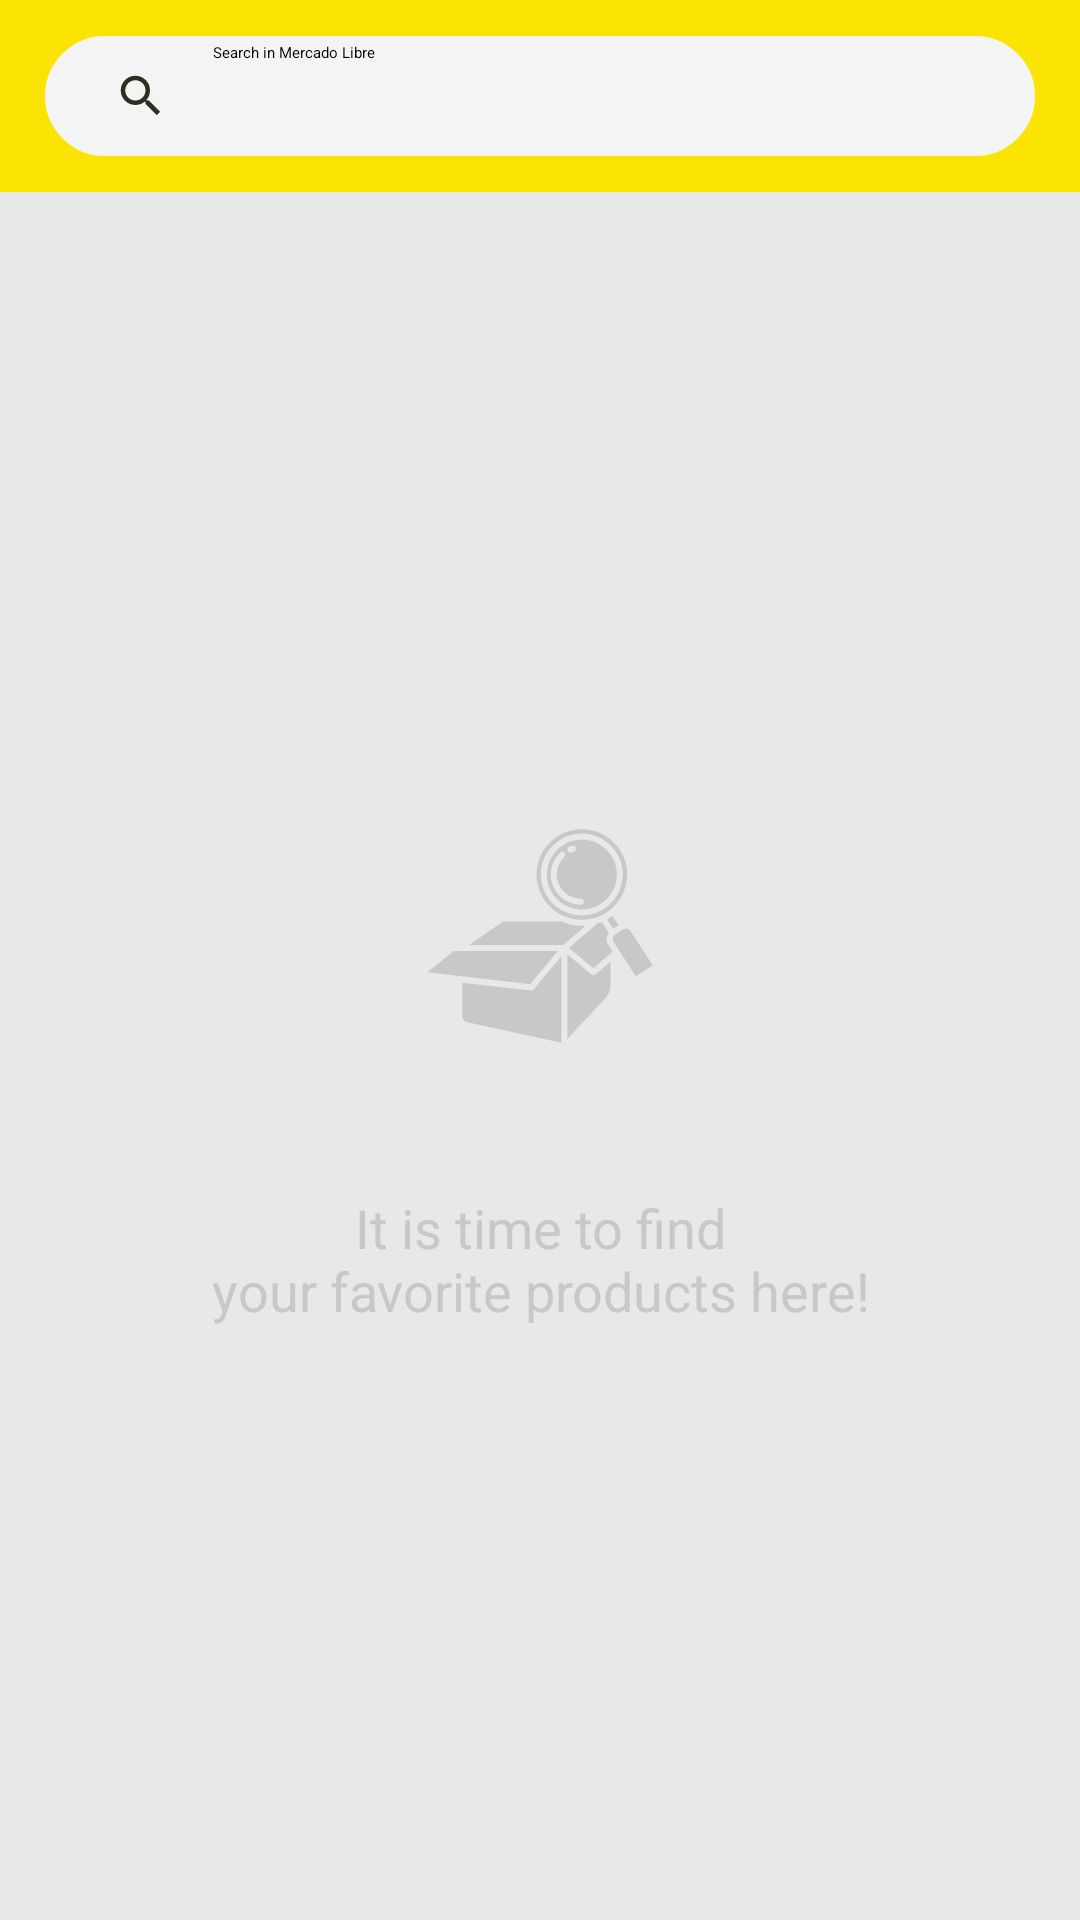

Where icons sit on this 1080px x 1920px app screen, as (x1, y1, x2, y2):
not found: (429, 830, 652, 1042)
